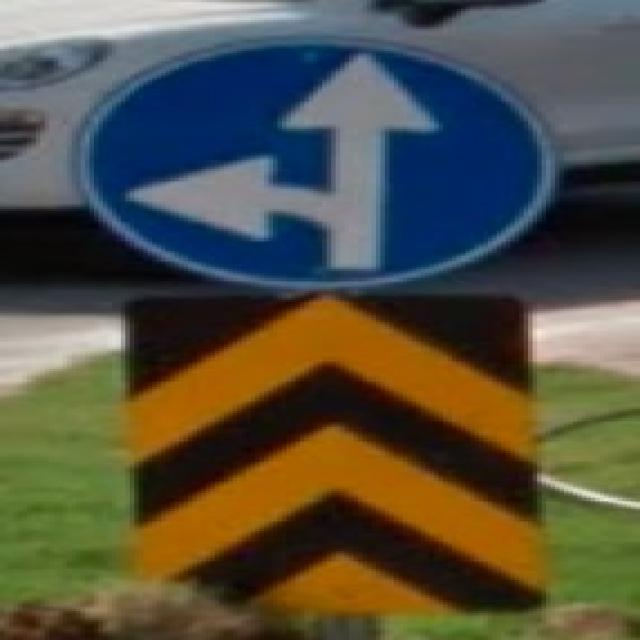Straight or Left: (75, 39, 554, 283)
